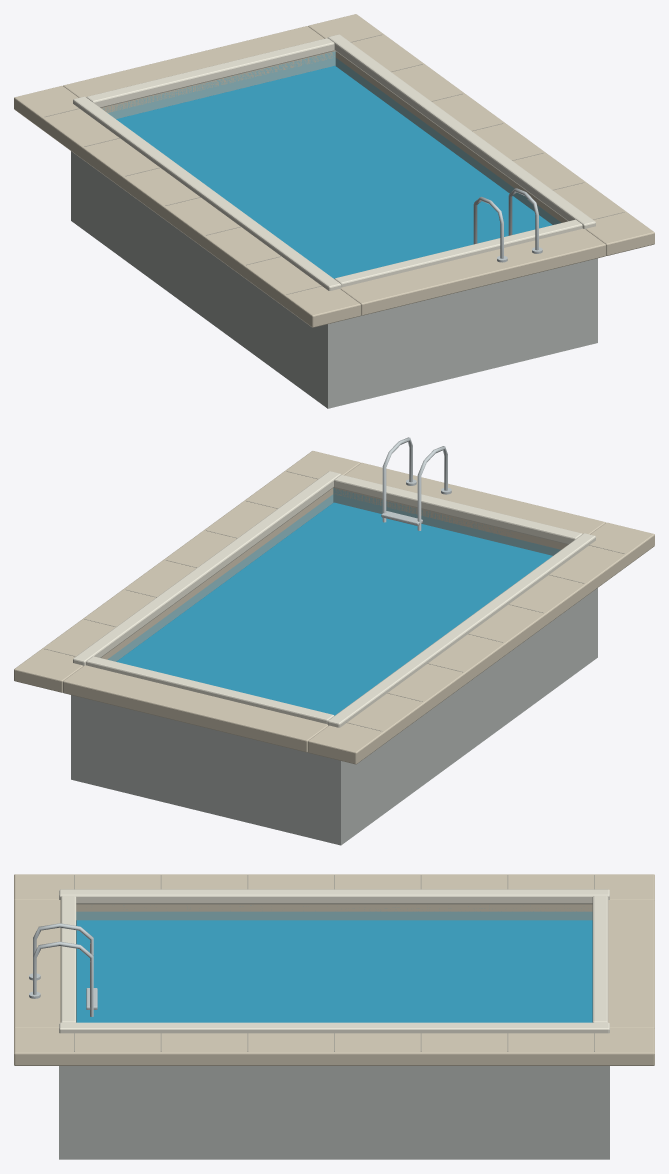
File: pool_rectangular_recessed.glb
3 views of the same model, one above another, from view 1: azimuth 30°, elevation 25°; view 2: azimuth 150°, elevation 25°; view 3: azimuth 270°, elevation 25° (orthographic). The views are drawn at different scales.
Visible parts, largest first — view 1: Rectangular recessed basin, Opaque pool water surface, Long deck edge, Long deck edge.001, Short deck edge, Short deck edge.001, Long coping stone.001, Long coping stone, Short coping stone.001, Short coping stone; view 2: Opaque pool water surface, Rectangular recessed basin, Long deck edge, Long deck edge.001, Short deck edge.001, Short deck edge, Long coping stone.001, Long coping stone, Short coping stone, Short coping stone.001, Continuous pool ladder rail, Continuous pool ladder rail.001; view 3: Rectangular recessed basin, Opaque pool water surface, Long deck edge.001, Long deck edge, Long coping stone, Long coping stone.001, Short deck edge.001, Short deck edge, Short coping stone.001, Short coping stone, Continuous pool ladder rail.001, Continuous pool ladder rail.
Boxes of the visible parts, <box> form: Rectangular recessed basin: <box>71,51,597,408</box>; Opaque pool water surface: <box>116,66,552,278</box>; Long deck edge: <box>14,86,360,327</box>; Long deck edge.001: <box>308,14,654,255</box>; Short deck edge: <box>341,228,605,315</box>; Short deck edge.001: <box>63,26,334,112</box>; Long coping stone.001: <box>328,34,595,229</box>; Long coping stone: <box>73,96,341,290</box>; Short coping stone.001: <box>86,38,334,107</box>; Short coping stone: <box>334,219,582,287</box>; Opaque pool water surface: <box>116,502,552,715</box>; Rectangular recessed basin: <box>71,488,597,845</box>; Long deck edge: <box>308,522,654,764</box>; Long deck edge.001: <box>14,451,360,692</box>; Short deck edge.001: <box>63,665,328,752</box>; Short deck edge: <box>333,462,605,549</box>; Long coping stone.001: <box>73,471,341,665</box>; Long coping stone: <box>327,533,595,727</box>; Short coping stone: <box>334,475,582,544</box>; Short coping stone.001: <box>86,656,334,723</box>; Continuous pool ladder rail: <box>417,446,447,530</box>; Continuous pool ladder rail.001: <box>382,437,412,522</box>; Rectangular recessed basin: <box>59,905,609,1159</box>; Opaque pool water surface: <box>76,920,592,1022</box>; Long deck edge.001: <box>14,1028,654,1065</box>; Long deck edge: <box>14,874,654,911</box>; Long coping stone: <box>59,889,609,904</box>; Long coping stone.001: <box>59,1022,609,1033</box>; Short deck edge.001: <box>608,900,654,1028</box>; Short deck edge: <box>14,900,60,1028</box>; Short coping stone.001: <box>592,896,608,1022</box>; Short coping stone: <box>60,896,76,1022</box>; Continuous pool ladder rail.001: <box>33,941,93,1016</box>; Continuous pool ladder rail: <box>33,923,93,960</box>.
Bounding box in the file's own units: 4.9 × 2.29 × 7.4.
